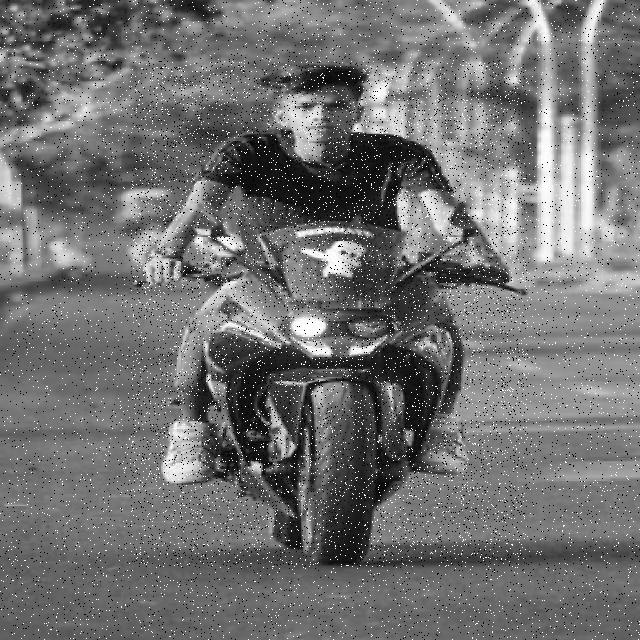Motorbike: (131, 61, 527, 567)
